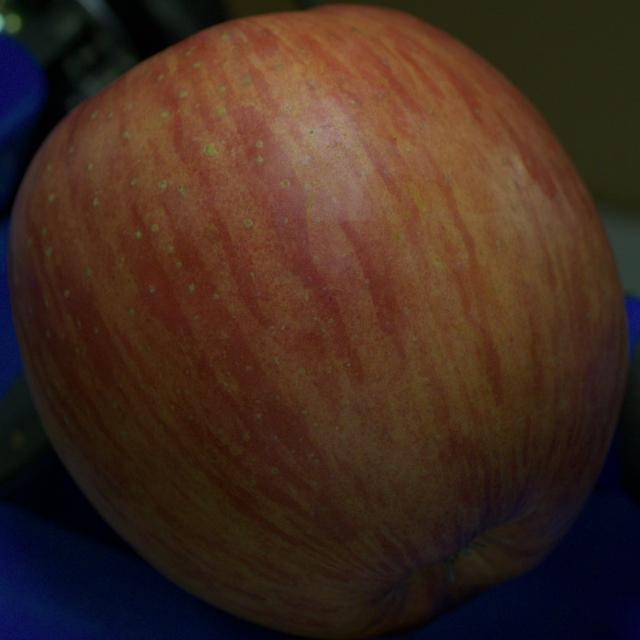apple: (8, 5, 628, 639)
